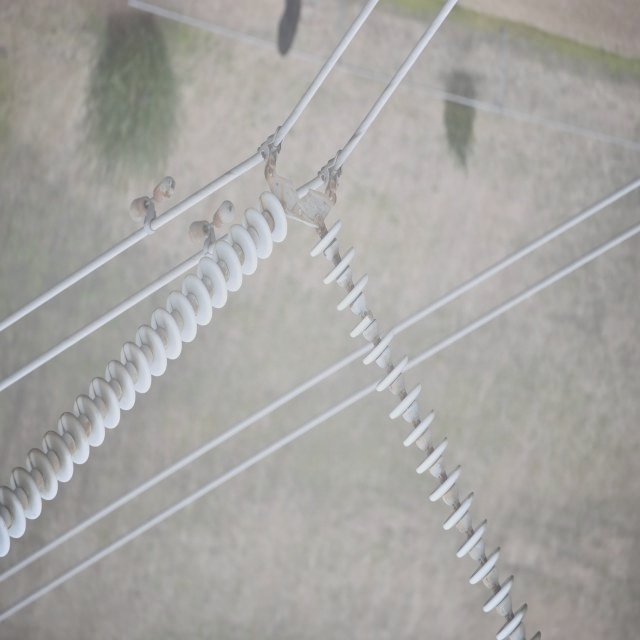broken: (360, 302, 378, 323)
insulator: (0, 189, 288, 560), (312, 219, 542, 640)
